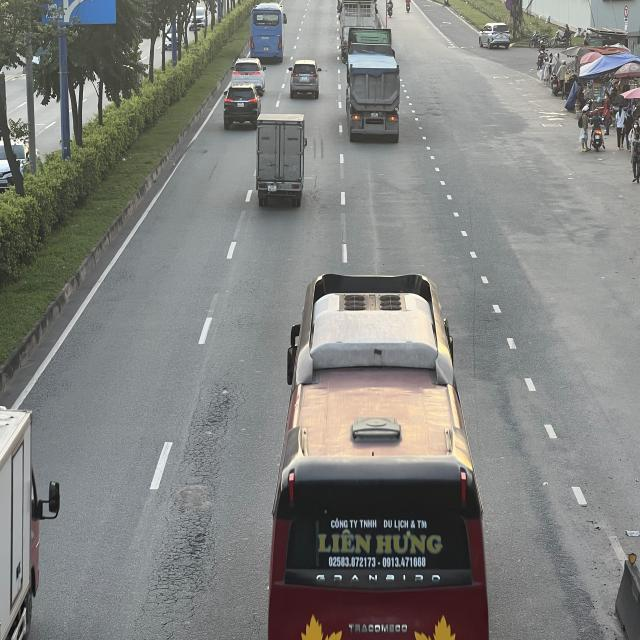car: (222, 85, 262, 127), (288, 59, 322, 100), (480, 24, 513, 50)
coach: (276, 268, 490, 637), (251, 2, 288, 62)
container: (344, 32, 401, 143)
truck: (257, 114, 308, 206)
